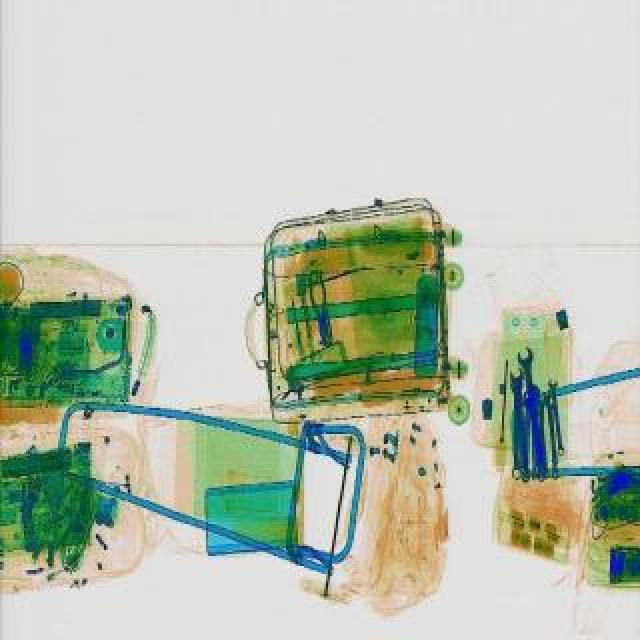scissors: (514, 344, 554, 476), (506, 366, 532, 478), (548, 378, 568, 454)
wrench: (304, 270, 336, 344)
